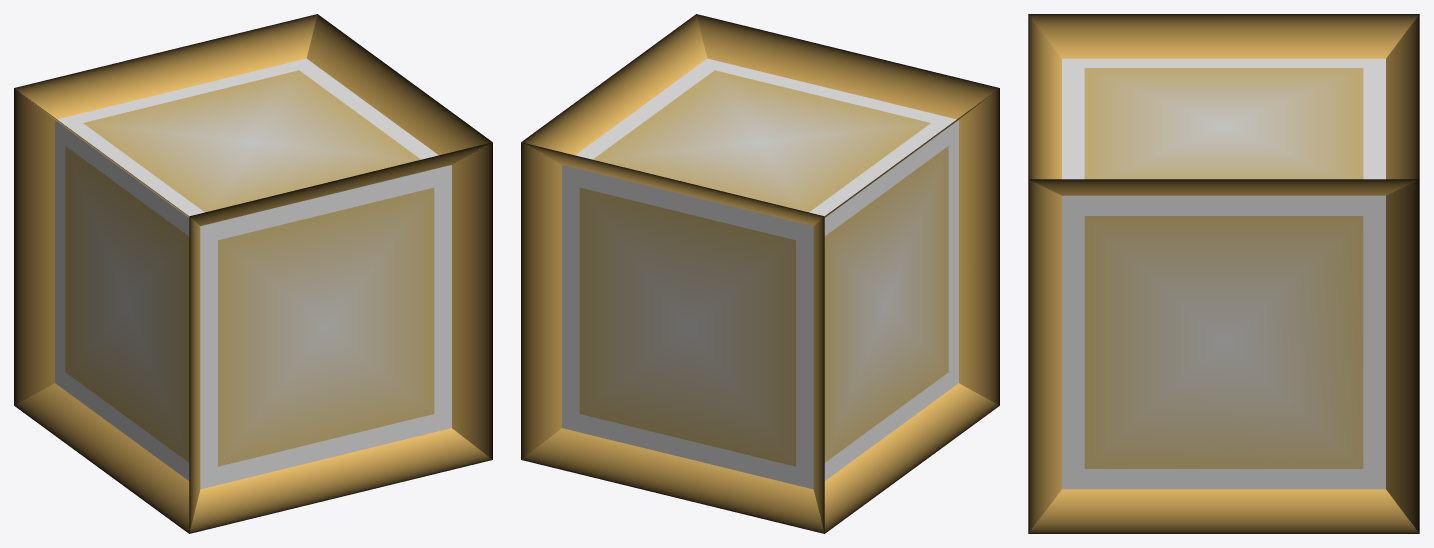
File: SpaceBlock.gltf
The picture shows the model from 3 angles, left to right: view 1: azimuth 30°, elevation 25°; view 2: azimuth 150°, elevation 25°; view 3: azimuth 270°, elevation 25°; orthographic projection. The views are drawn at different scales.
Parts seen in each view (by area): view 1: SpaceBlockMesh; view 2: SpaceBlockMesh; view 3: SpaceBlockMesh.
Boxes of the visible parts, left/top/right/bottom form: SpaceBlockMesh: left=14, top=14, right=492, bottom=533; SpaceBlockMesh: left=521, top=14, right=999, bottom=533; SpaceBlockMesh: left=1028, top=14, right=1419, bottom=533.
Bounding box in the file's own units: 1.21 × 1.21 × 1.21.
